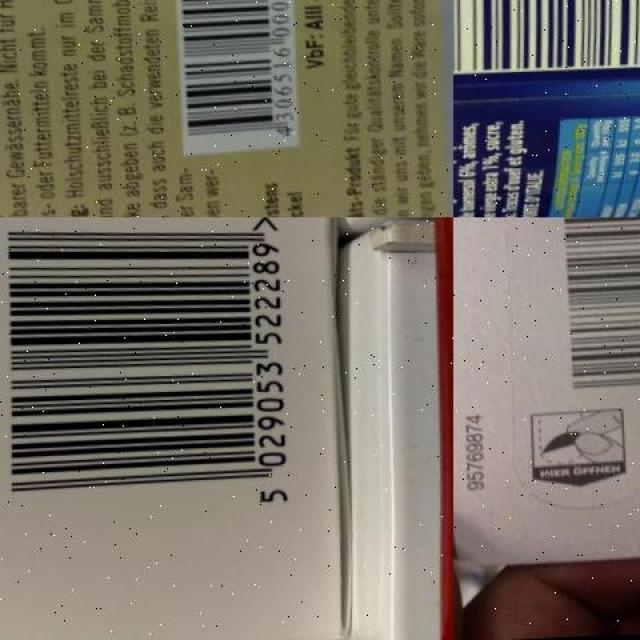Barcode: (0, 217, 307, 531), (541, 218, 640, 410), (173, 0, 294, 157), (453, 0, 640, 75)
